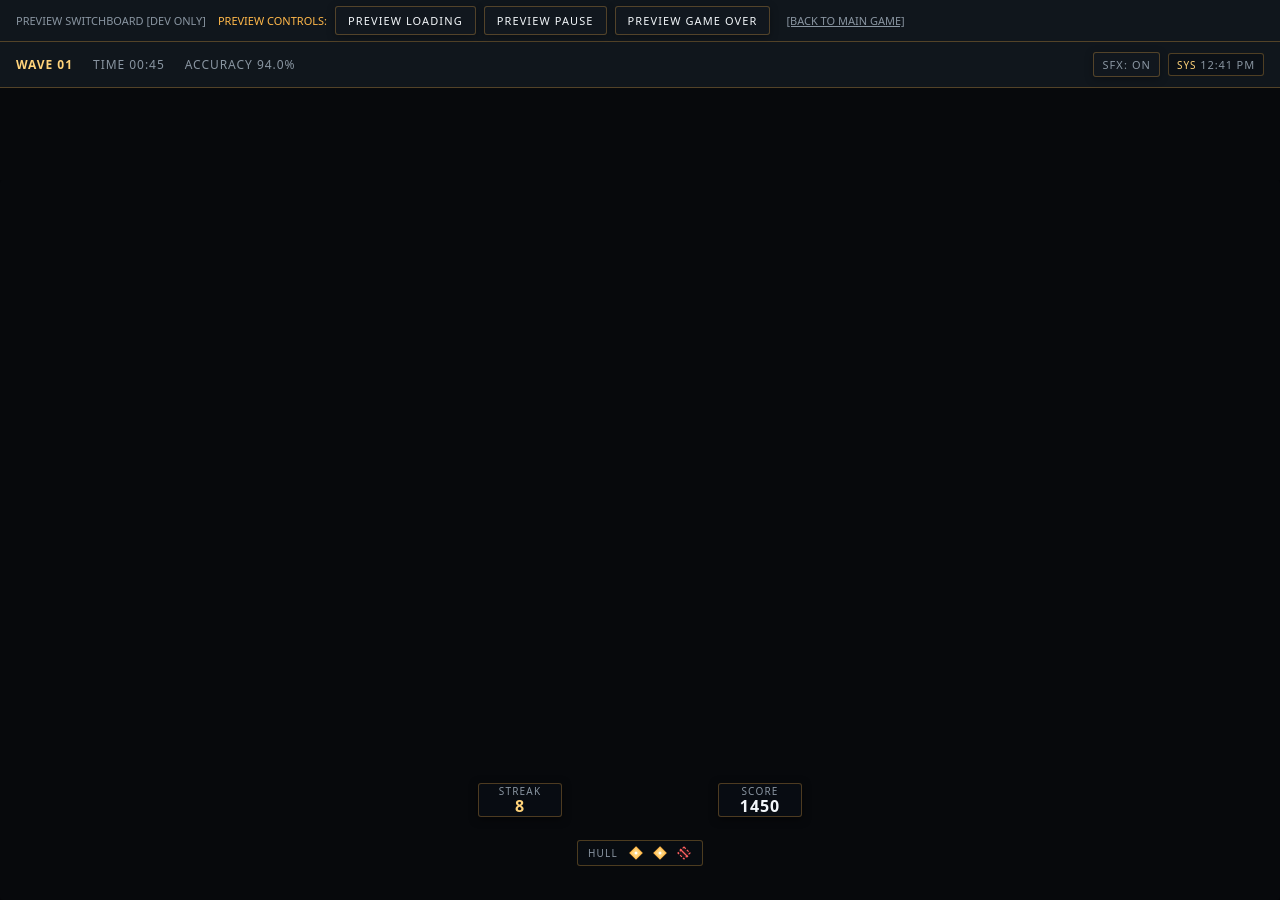
Test: Tactical Command Console App Shell › renders preview switchboard and mock telemetry when ?preview=1 is set in DEV
Expected: the text "PREVIEW SWITCHBOARD [DEV ONLY]" is shown, [16, 13, 206, 28]
Expected: the text "1450" is shown, [740, 798, 780, 814]
Click the button "PREVIEW PAUSE": click(545, 20) [484, 6, 607, 35]
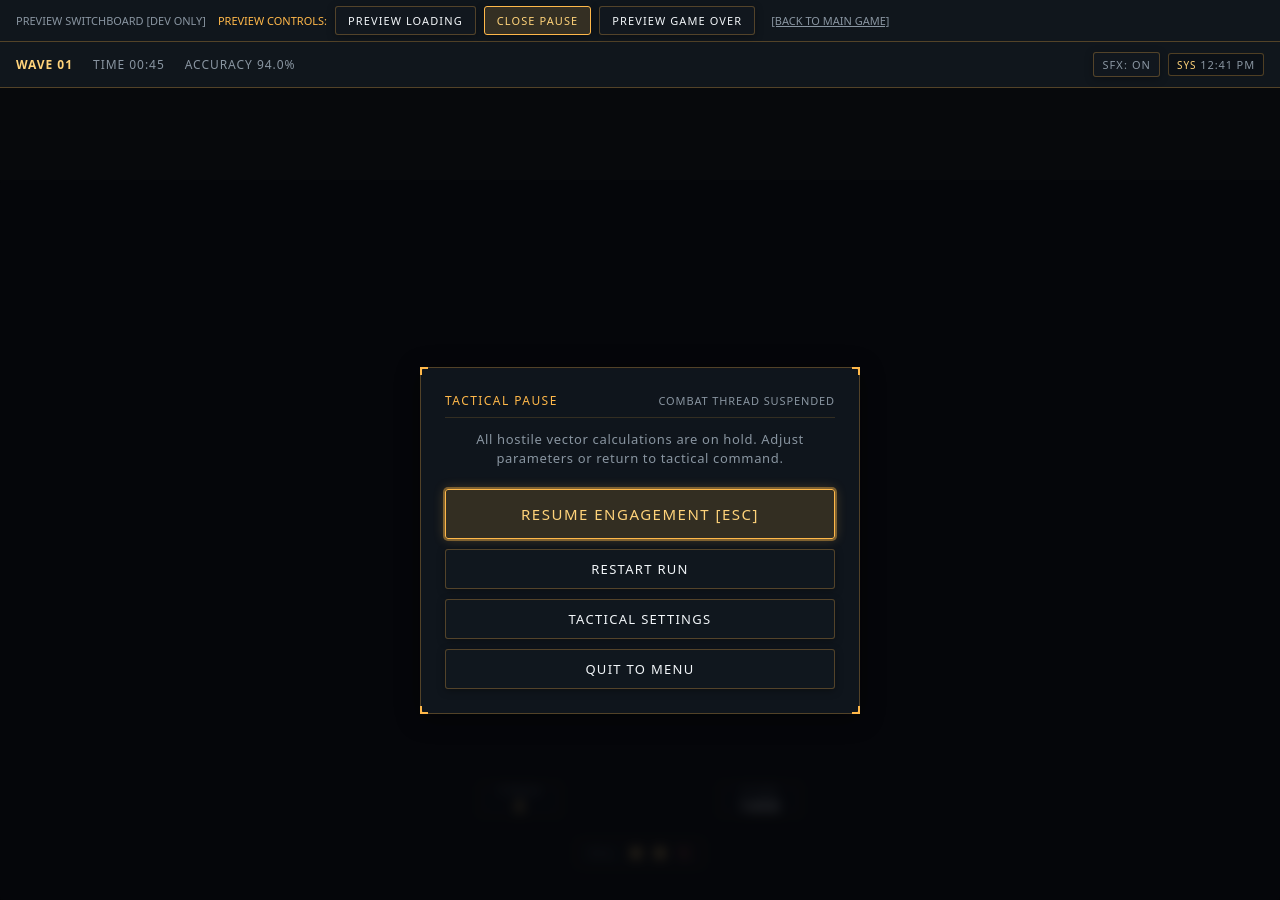
Expected: the text "COMBAT THREAD SUSPENDED" is shown, [658, 392, 835, 408]
